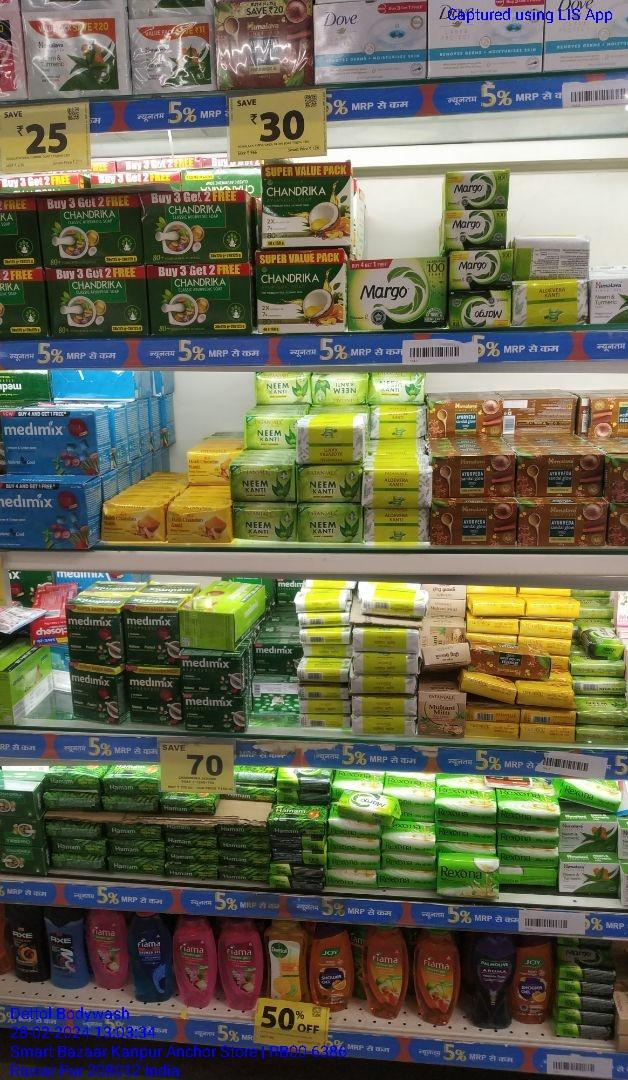Dettol_Bodywash_Refresh: (265, 921, 306, 1002)
Fiama_Shower_Gel_Patchouli_and_Macadamia_250ML: (173, 914, 215, 1007), (220, 919, 262, 1011), (88, 910, 126, 989)
Fiama_Shower_Gel_Peach_and_Avocado_250ML: (365, 925, 409, 1022), (415, 930, 457, 1026)
Joy_Shower_Gel_Mandarin_and_Lemongrass_250ML: (312, 924, 351, 1013), (515, 937, 552, 1025)
Palmolive_Aroma_Relax_250ML: (472, 933, 512, 1031)
